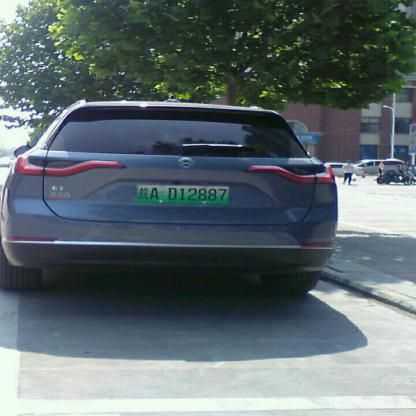lp: (136, 184, 230, 204)
